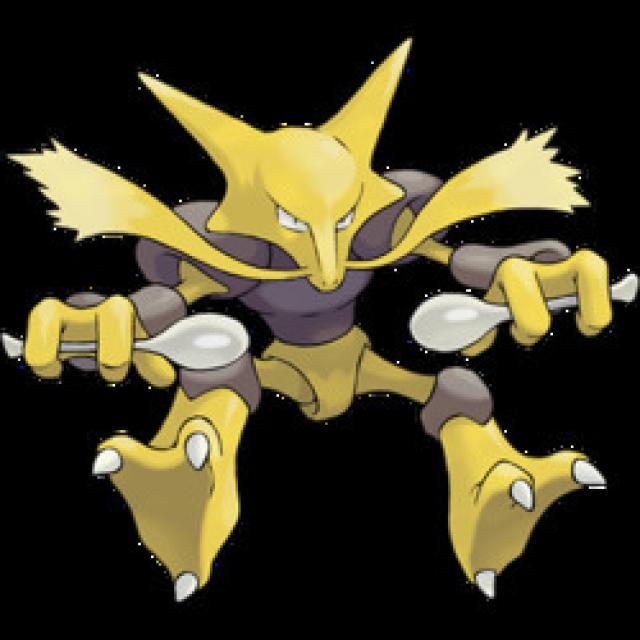Alakazam: (41, 100, 605, 552)
